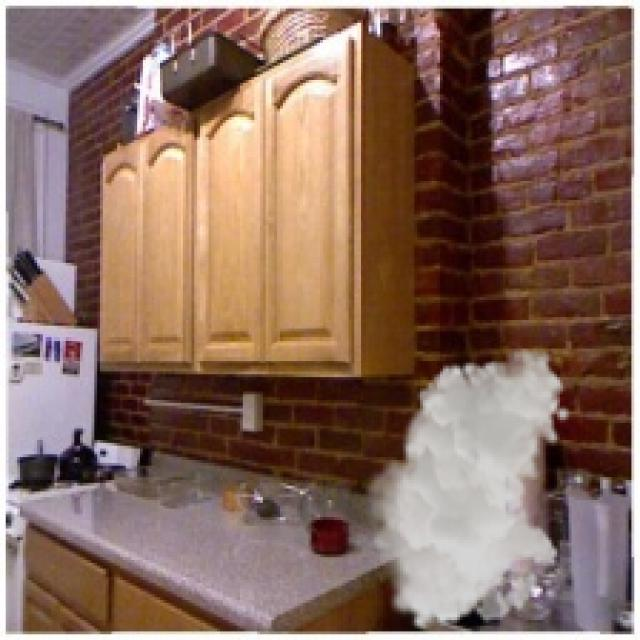smoke: (363, 348, 571, 632)
